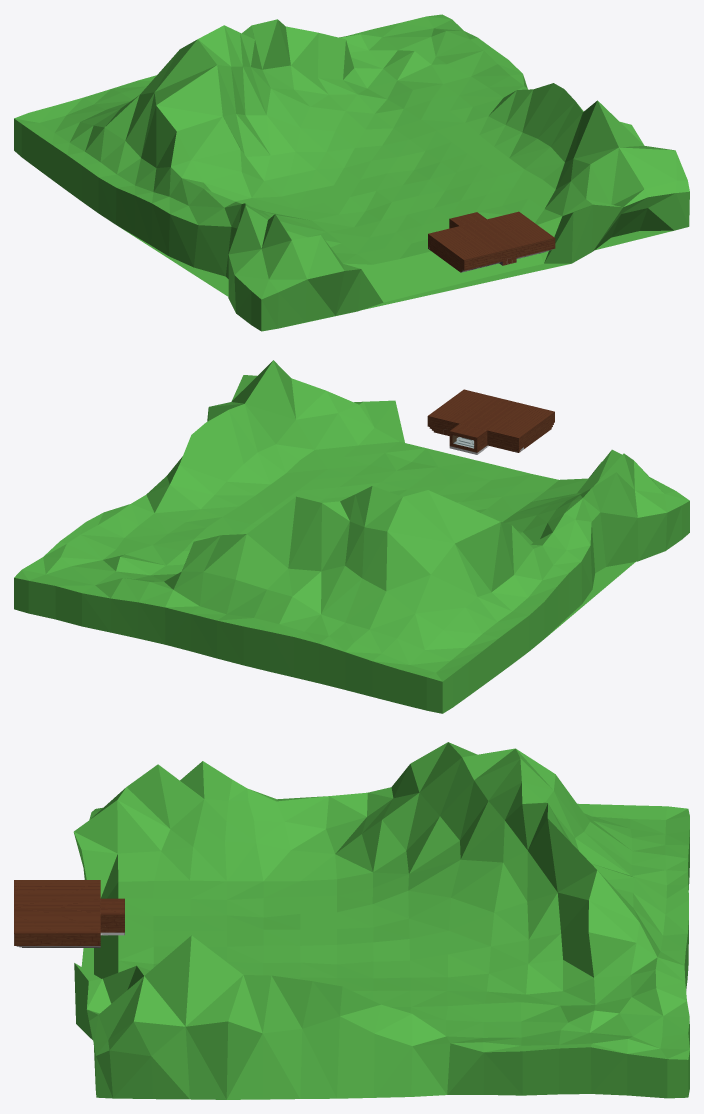
The model's file is EveryoneLovesFacials.fbx.
3 views of the same model, one above another, from view 1: azimuth 30°, elevation 25°; view 2: azimuth 150°, elevation 25°; view 3: azimuth 270°, elevation 25° (orthographic). The views are drawn at different scales.
Parts seen in each view (by area): view 1: Ground, Main Building; view 2: Ground, Main Building; view 3: Ground, Main Building.
Boxes of the visible parts, x1,y1,x2,y2 form: Ground: (14, 14, 689, 331); Main Building: (428, 211, 555, 272); Ground: (14, 360, 689, 713); Main Building: (427, 389, 554, 454); Ground: (73, 742, 689, 1099); Main Building: (14, 880, 124, 947).
Size of the model in its own units: 13546 by 4244 by 15229.
9 materials, 6 textured.
